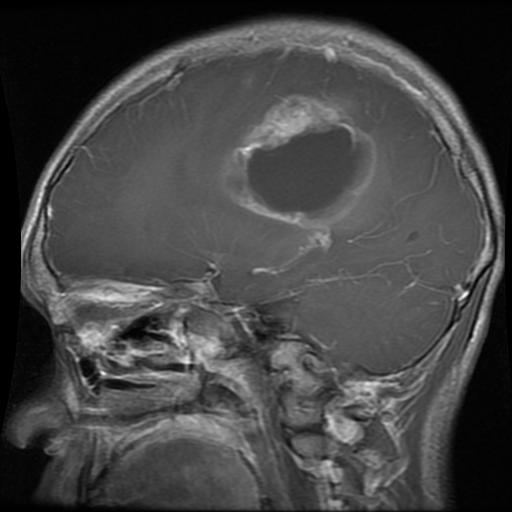Gliomia_tumour: (214, 88, 378, 250)
